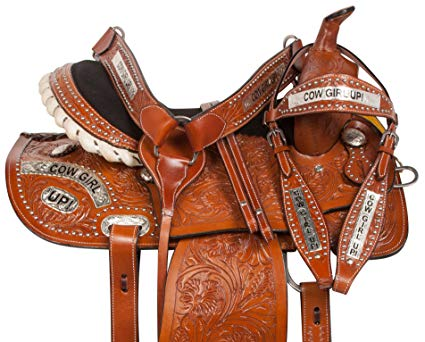saddle: (24, 37, 409, 273)
